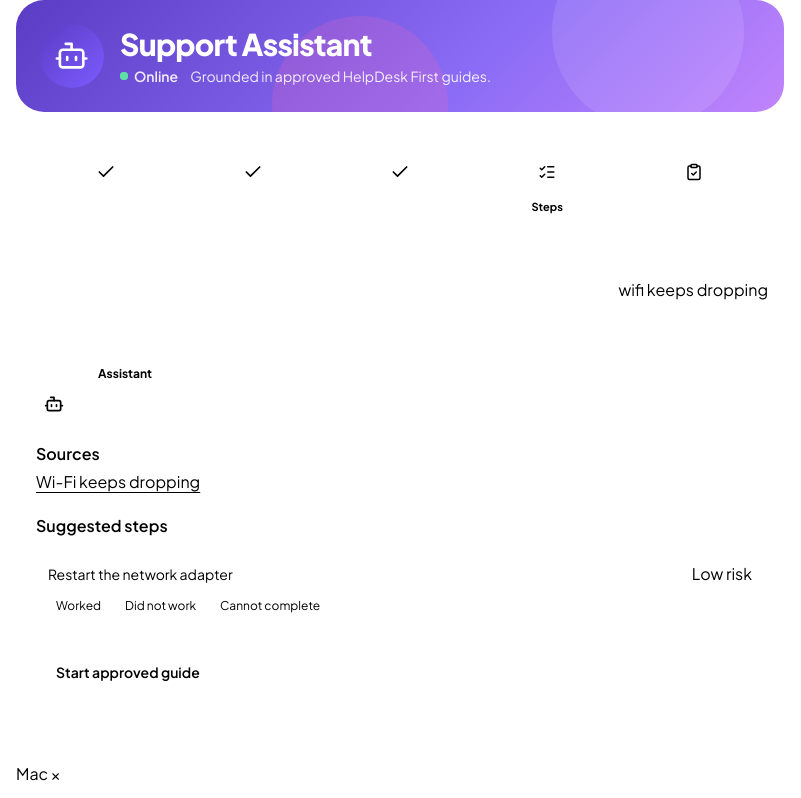
it: AssistantWorkspace › records a failed outcome, persists it, and moves the step into Already tried
The width and height of the screenshot is (801, 798).
Expected: the text "Restart the network adapter" is shown, [48,564,233,584]
Click the button "Did not work" at (161, 606), box [117,594,204,618]
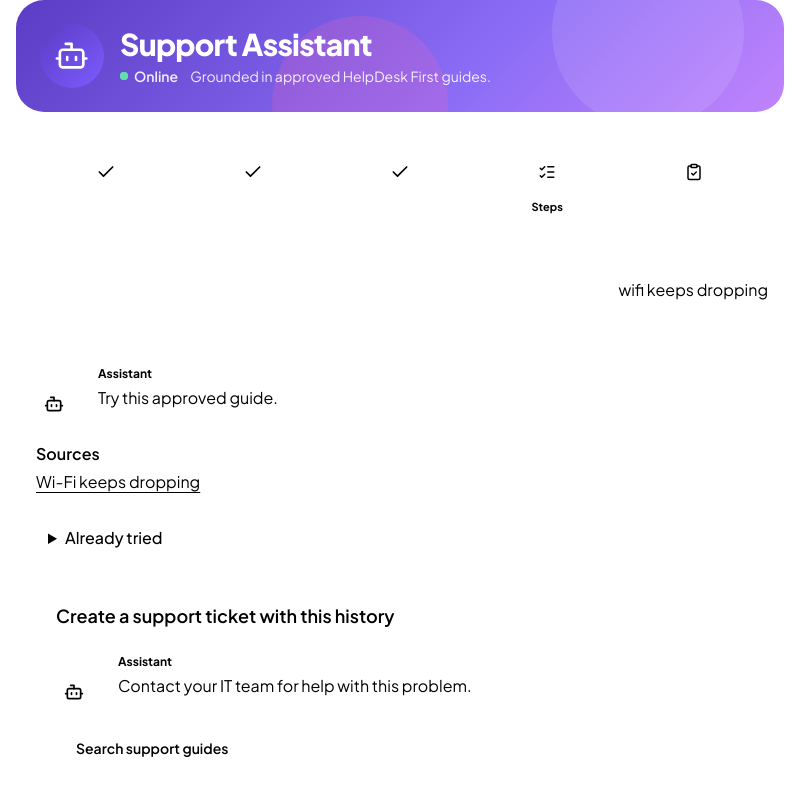
Result: the heading "Suggested steps" is gone
Result: the heading "Already tried" is shown at [65,527,162,548]
